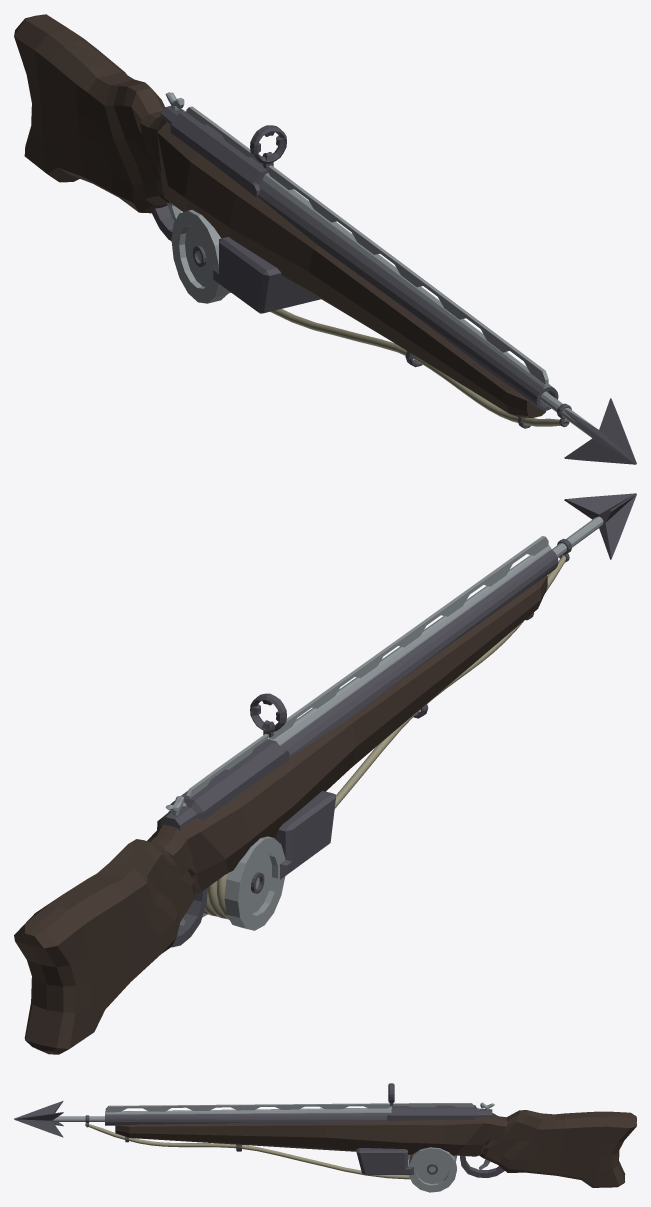
File: HarpoonGunWIP.fbx
The picture shows the model from 3 angles, top to bottom: view 1: azimuth 30°, elevation 25°; view 2: azimuth 150°, elevation 25°; view 3: azimuth 270°, elevation 25°; orthographic projection. The views are drawn at different scales.
Visible parts, largest first — view 1: gun, Harpoon, rope; view 2: gun, Harpoon, rope; view 3: gun, rope, Harpoon.
Part boxes in pixels (x1,y1,x2,y2): gun: (14, 14, 558, 428); Harpoon: (540, 391, 636, 464); rope: (270, 309, 568, 426); gun: (14, 536, 558, 1054); Harpoon: (552, 493, 636, 562); rope: (208, 555, 566, 897); gun: (105, 1083, 636, 1192); rope: (85, 1123, 409, 1179); Harpoon: (14, 1101, 104, 1137).
Size of the model in its own units: 42.2 by 109 by 604.
